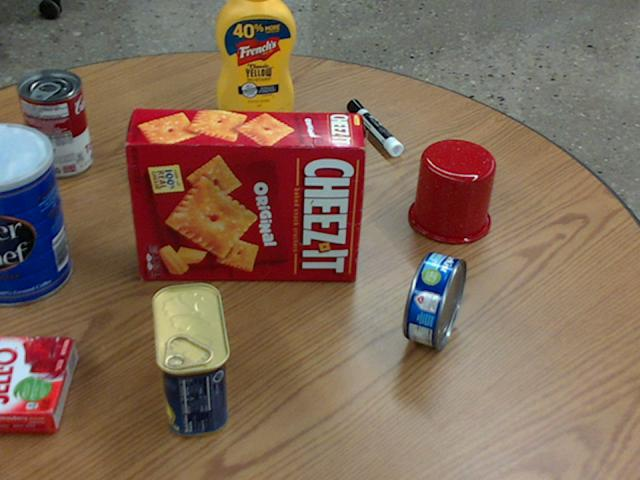cracker_box: (127, 109, 364, 281)
gelatin_box: (0, 336, 75, 431)
large_marker: (347, 99, 402, 155)
master_chef_can: (0, 124, 71, 306)
mug: (407, 139, 494, 243)
mustard_bottle: (216, 0, 295, 119)
potted_meat_can: (150, 282, 226, 435)
sugar_box: (146, 114, 308, 192)
tomato_soup_can: (18, 69, 91, 176)
tuna_fish_can: (404, 251, 464, 348)
